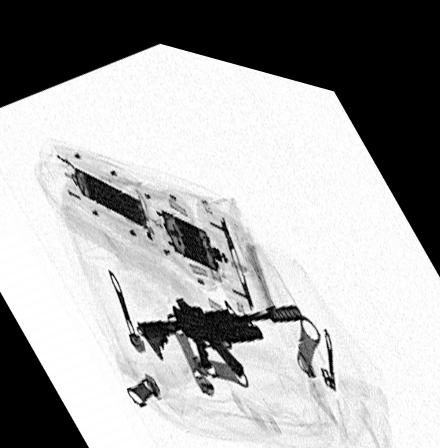Gun: (133, 286, 308, 369)
